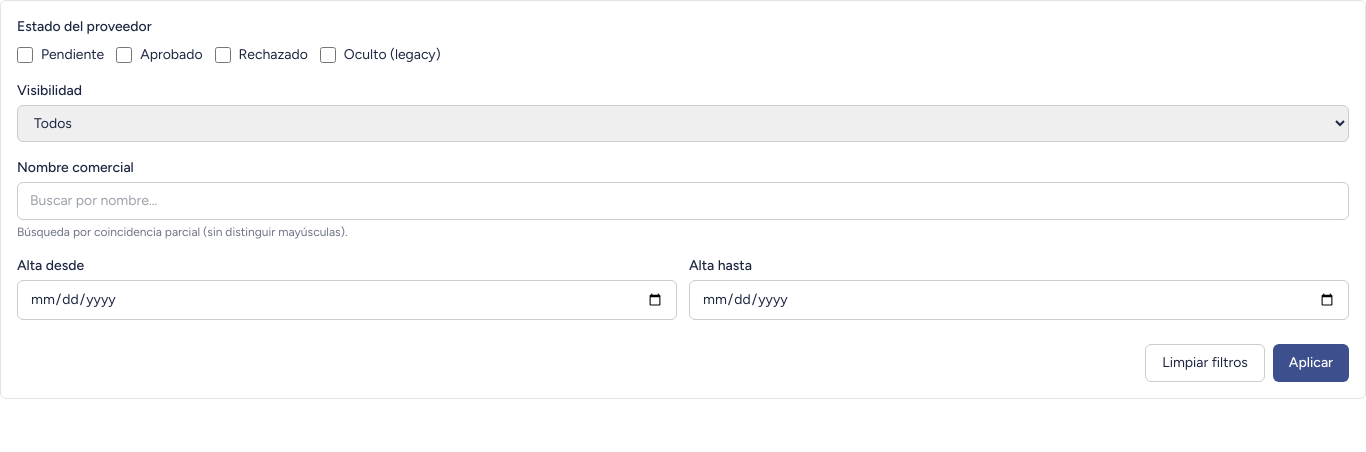
Test case: US-074 · VendorFiltersPanel › cross-field: from > to muestra alert + aria-invalid
This screenshot has width=1366, height=452.
In the date field labelled "Alta desde": (347, 300) [17, 280, 677, 320], type "2026-08-01"
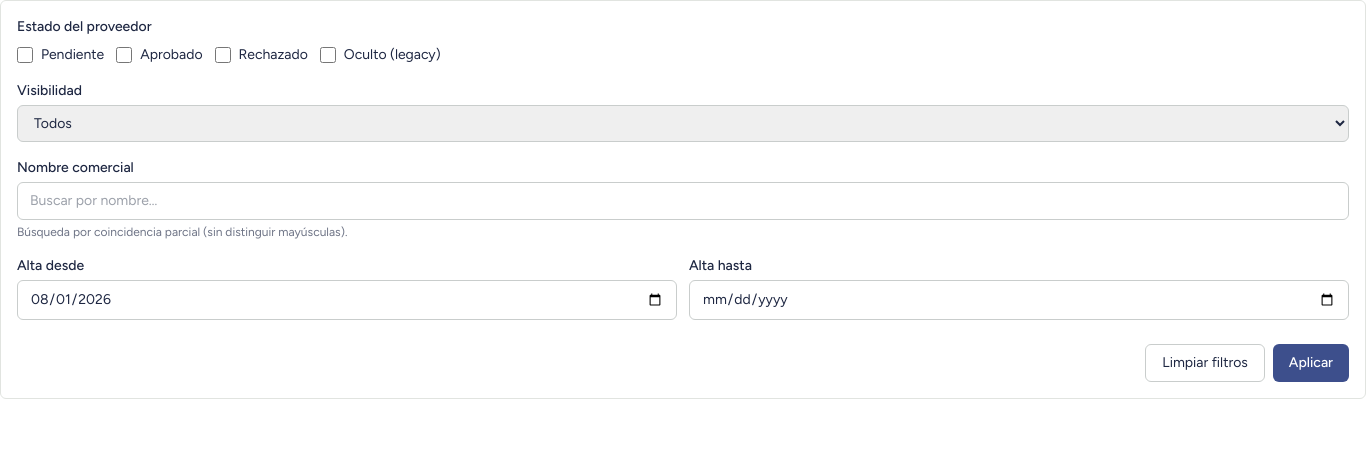
In the date field labelled "Alta hasta": (1019, 300) [689, 280, 1349, 320], type "2026-07-01"
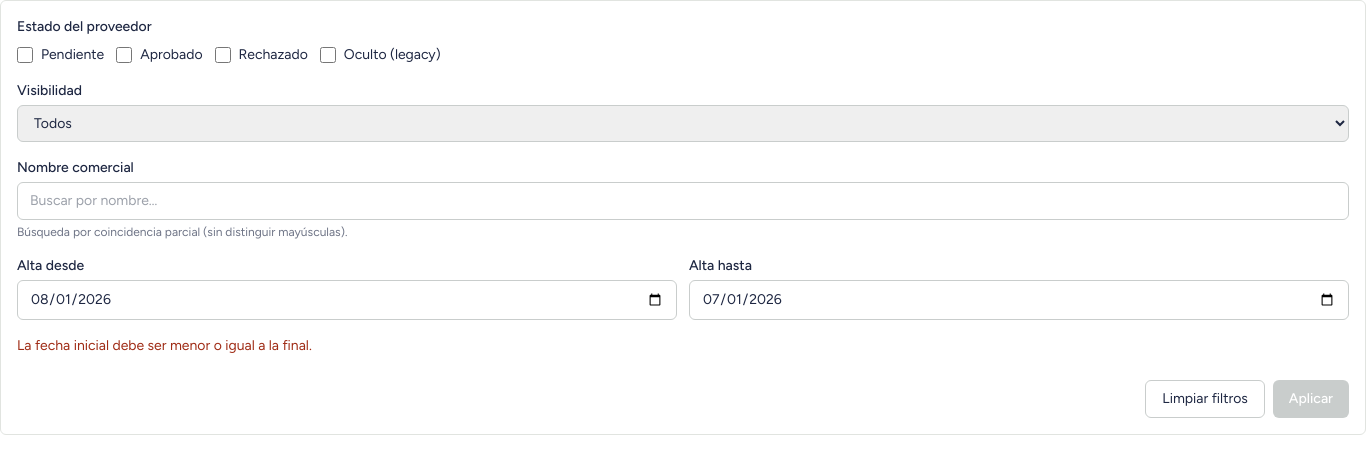
Now the message shows "menor o igual", box [17, 337, 312, 354]
